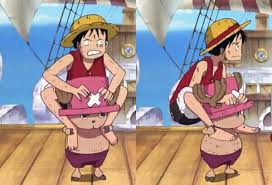chopper: (192, 71, 256, 133), (53, 77, 121, 134)
luffy: (59, 14, 120, 62), (198, 18, 251, 63)
